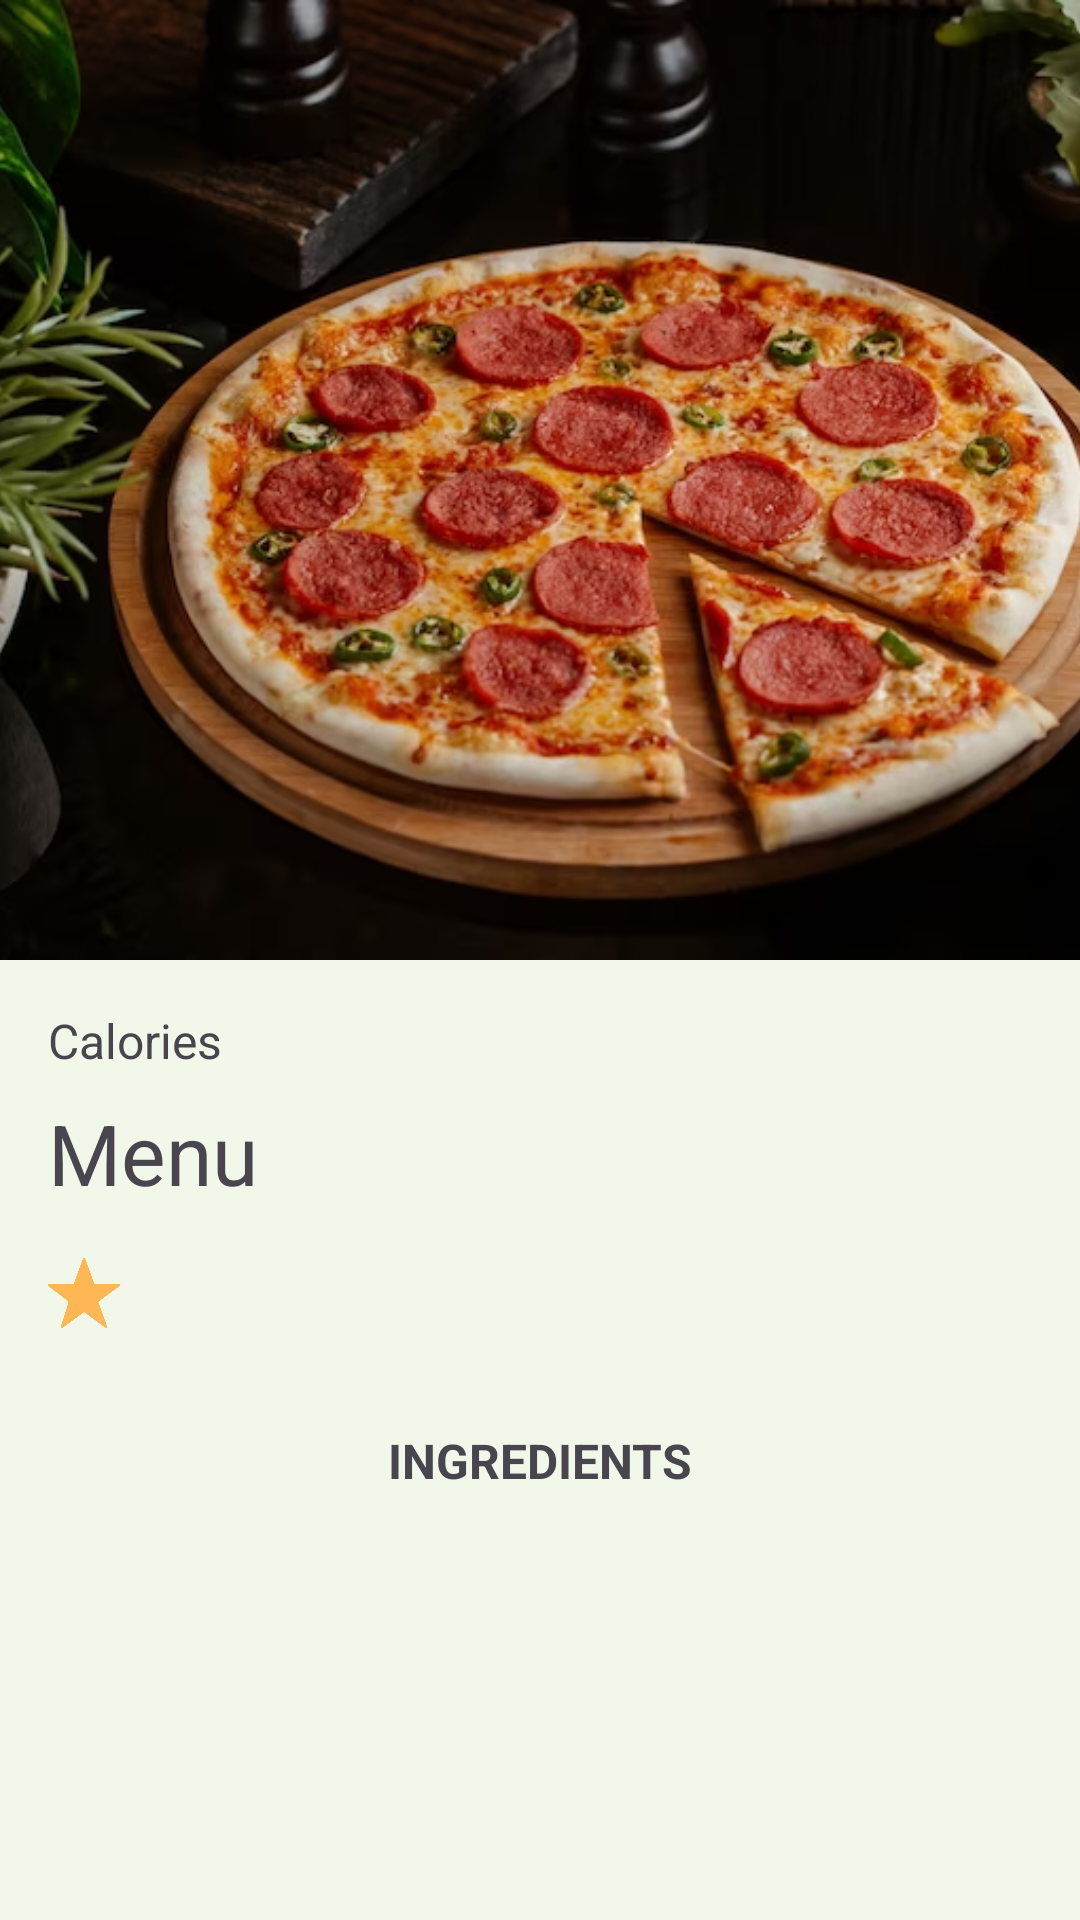

Icon bounding boxes for this 1080x1920 phone screenshot, format bbox=(x1, y1, x2, y2):
rating: bbox=(48, 1258, 120, 1328)
